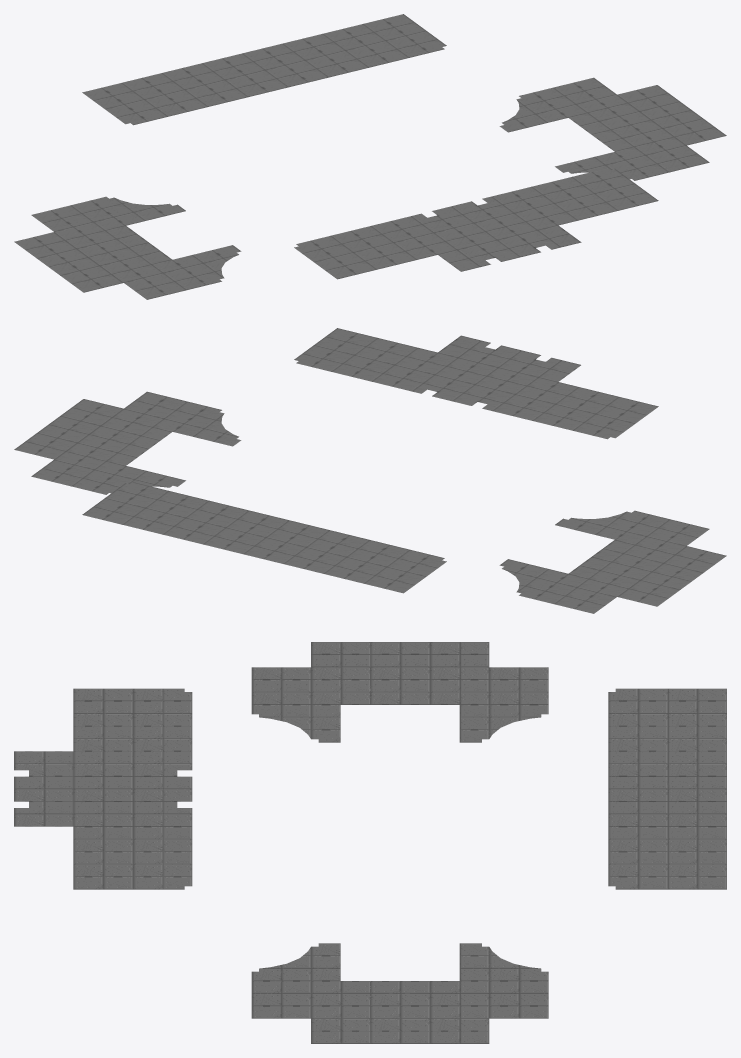
The model's file is DF_01_FLOOR2.fbx.
3 views of the same model, one above another, from view 1: azimuth 30°, elevation 25°; view 2: azimuth 150°, elevation 25°; view 3: azimuth 270°, elevation 25° (orthographic). The views are drawn at different scales.
Parts seen in each view (by area): view 1: DF_01_FLOOR2; view 2: DF_01_FLOOR2; view 3: DF_01_FLOOR2.
Part boxes in pixels (x1,y1,x2,y2): DF_01_FLOOR2: (14, 14, 726, 299); DF_01_FLOOR2: (14, 328, 726, 613); DF_01_FLOOR2: (14, 642, 726, 1043).
Bounding box in the file's own units: 32 × 2 × 24.
